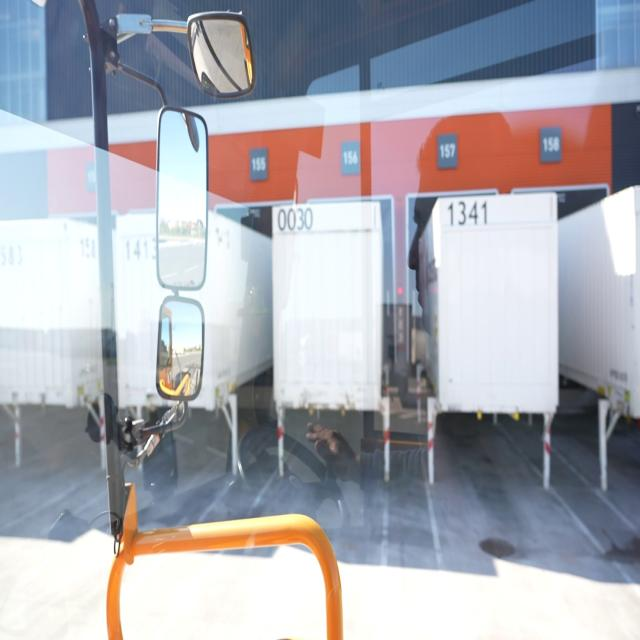Code: (446, 196, 492, 234), (276, 201, 317, 238)
